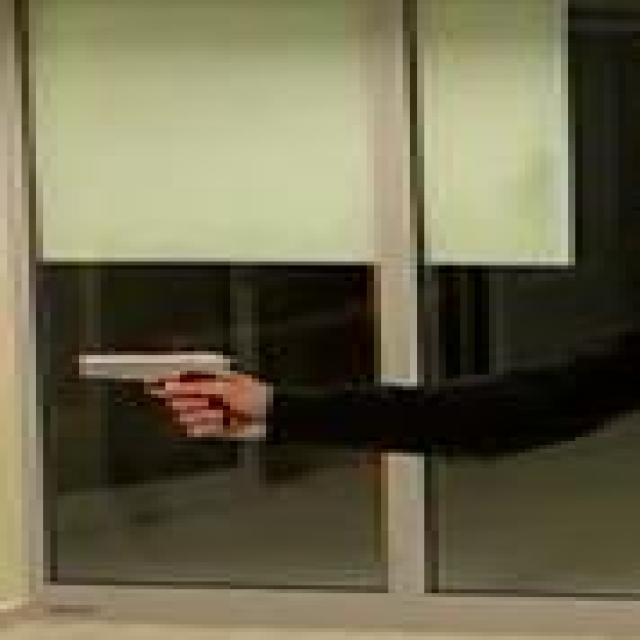Guns: (69, 326, 287, 438)
